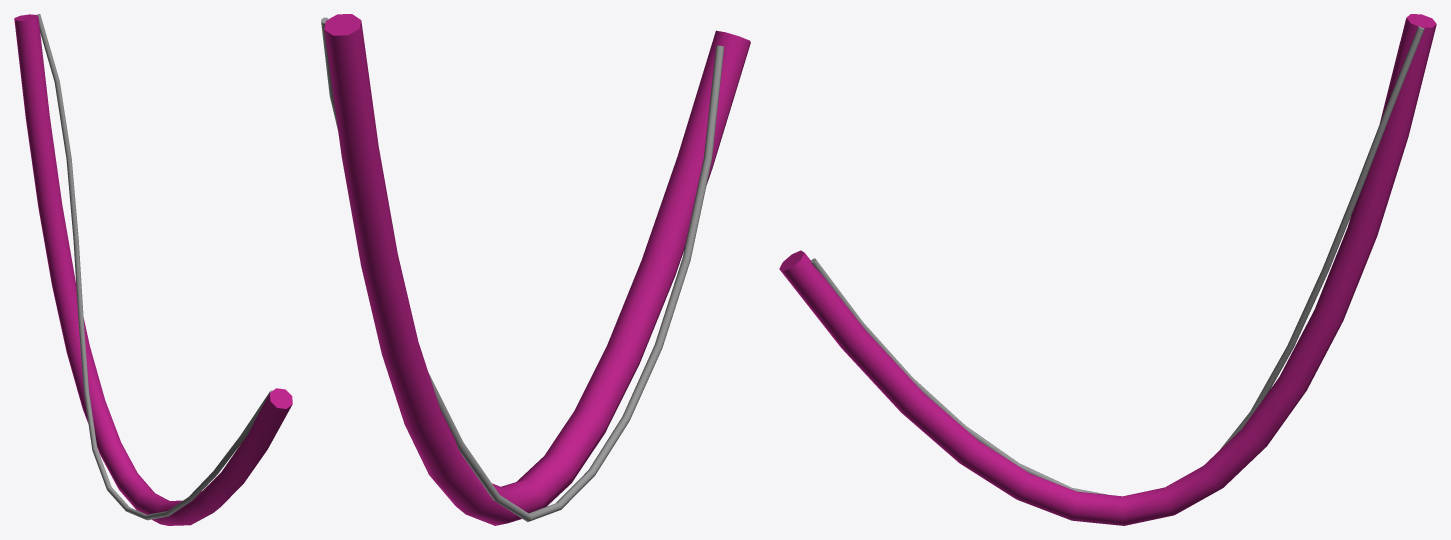
The model's file is BigHose.FBX.
3 renders of one model, left to right at view 1: azimuth 30°, elevation 25°; view 2: azimuth 150°, elevation 25°; view 3: azimuth 270°, elevation 25°, orthographic. The views are drawn at different scales.
Parts seen in each view (by area): view 1: Line004, Line007; view 2: Line004, Line007; view 3: Line004, Line007.
Boxes of the visible parts, bbox=[...] form: Line004: bbox=[14, 14, 292, 525]; Line007: bbox=[37, 14, 272, 520]; Line004: bbox=[324, 14, 750, 525]; Line007: bbox=[321, 17, 724, 521]; Line004: bbox=[779, 14, 1436, 525]; Line007: bbox=[811, 26, 1424, 494].
Bounding box in the file's own units: 40.17 × 352 × 414.
